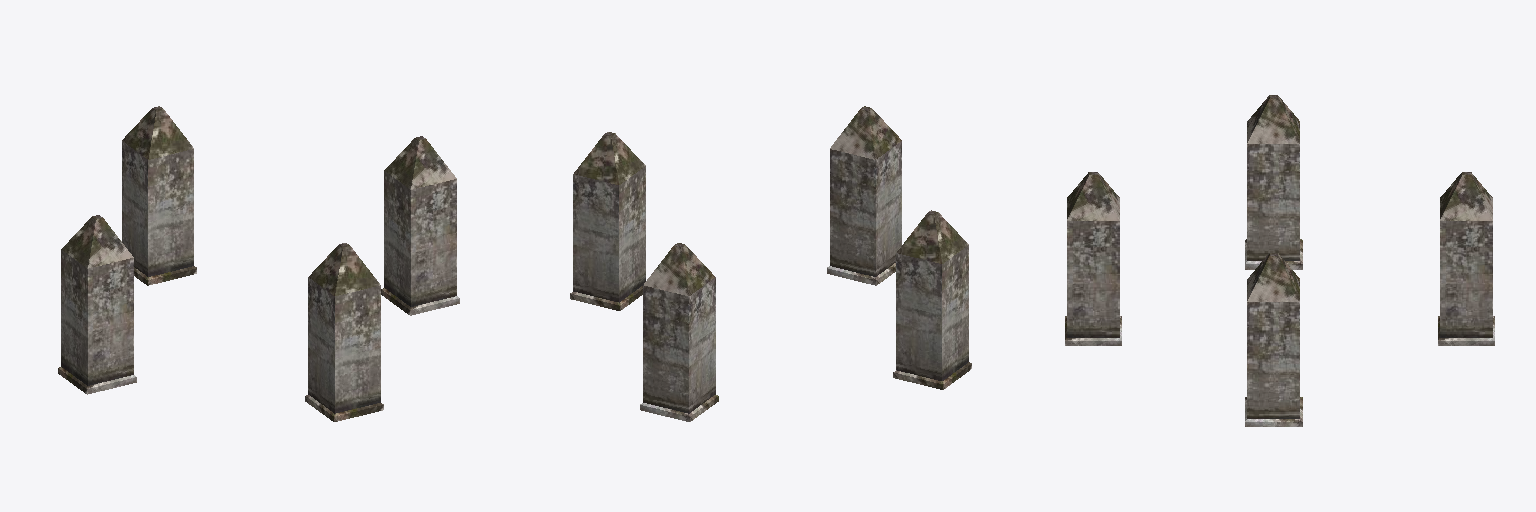
3 views of the same model, side by side, from view 1: azimuth 30°, elevation 25°; view 2: azimuth 150°, elevation 25°; view 3: azimuth 270°, elevation 25° (orthographic).
Parts seen in each view (by area): view 1: baseTwo_Cube.002, Cube.001, baseTwo_Cube.000, Cube.000_Cube.002; view 2: baseTwo_Cube.002, Cube.000_Cube.002, Cube.001, baseTwo_Cube.000; view 3: Cube.001, baseTwo_Cube.000, Cube.000_Cube.002, baseTwo_Cube.002.
Part boxes in pixels (left/top/right/bottom): baseTwo_Cube.002: left=58, top=215, right=136, bottom=394; Cube.001: left=381, top=136, right=459, bottom=315; baseTwo_Cube.000: left=305, top=243, right=383, bottom=421; Cube.000_Cube.002: left=122, top=106, right=196, bottom=285; baseTwo_Cube.002: left=893, top=210, right=971, bottom=389; Cube.000_Cube.002: left=640, top=243, right=718, bottom=421; Cube.001: left=570, top=132, right=645, bottom=310; baseTwo_Cube.000: left=827, top=106, right=901, bottom=285; Cube.001: left=1245, top=253, right=1302, bottom=426; baseTwo_Cube.000: left=1065, top=172, right=1121, bottom=345; Cube.000_Cube.002: left=1438, top=172, right=1494, bottom=345; baseTwo_Cube.002: left=1245, top=95, right=1302, bottom=269.
Size of the model in its own units: 9.37 by 3.86 by 9.37.
1 materials, 1 textured.